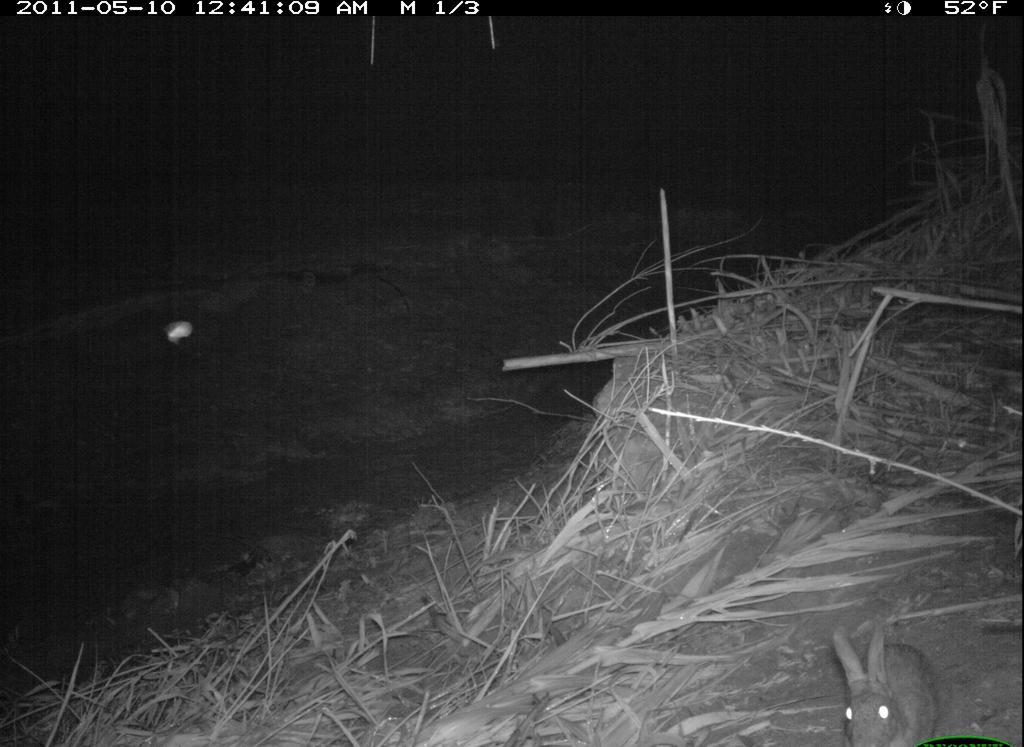rabbit: (807, 617, 961, 745)
